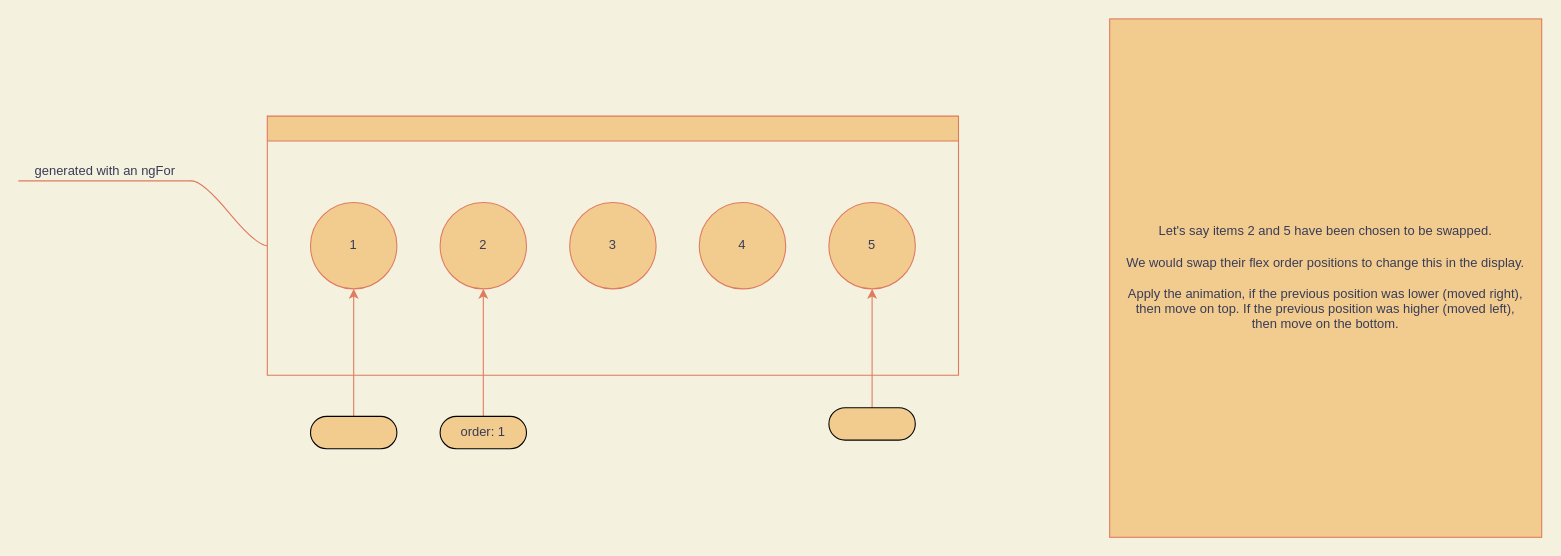
Some shapes in this 1561 by 556 pixel diagram are drawn without their labels. Here are the shapes that lost their labels. From the top down, the box of each, then its label:
(266, 115, 959, 375): List Container (Flexbox)
(309, 415, 397, 449): order: 0
(828, 407, 915, 440): order: 5
